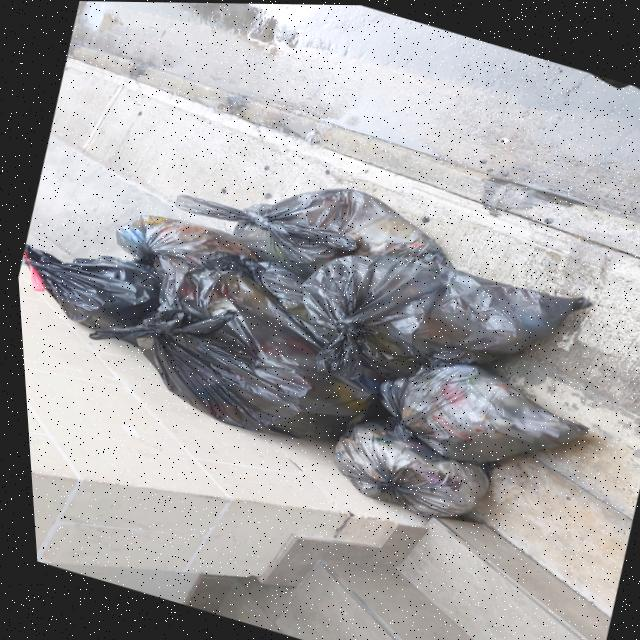Mixed Waste -Black Bag-: (65, 220, 424, 471), (276, 215, 599, 443), (158, 139, 466, 319), (361, 339, 597, 495), (315, 408, 495, 532), (13, 231, 166, 350), (104, 201, 265, 294)
